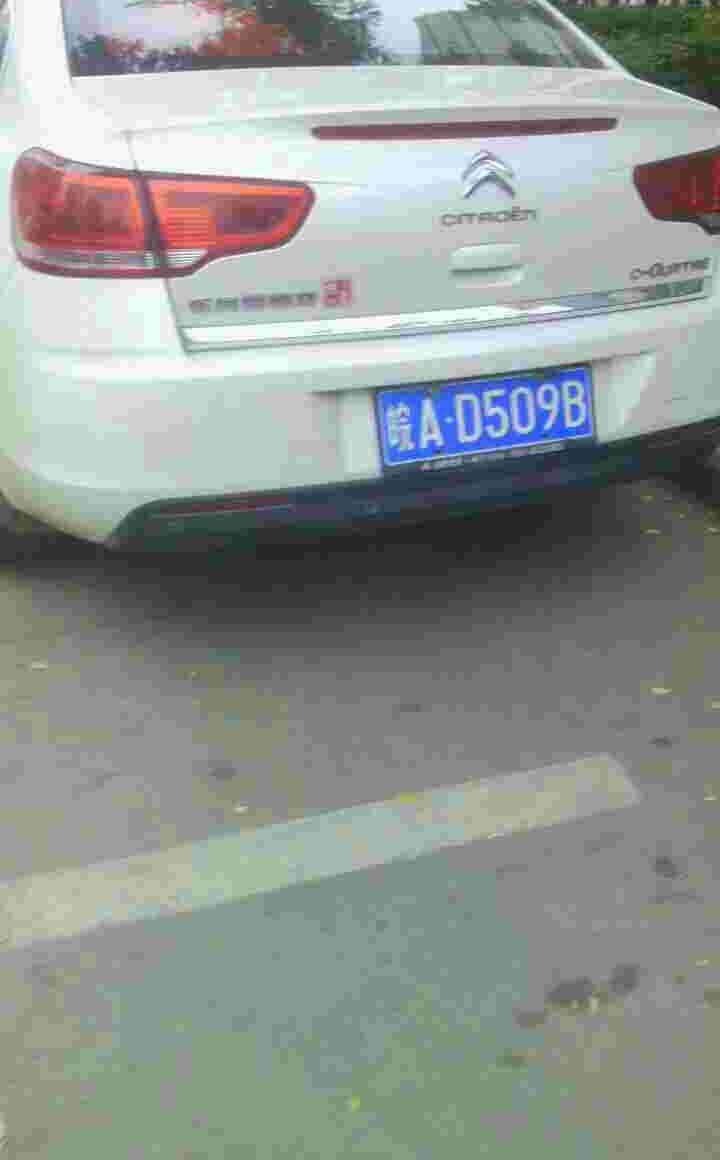license_plate: (383, 373, 588, 467)
